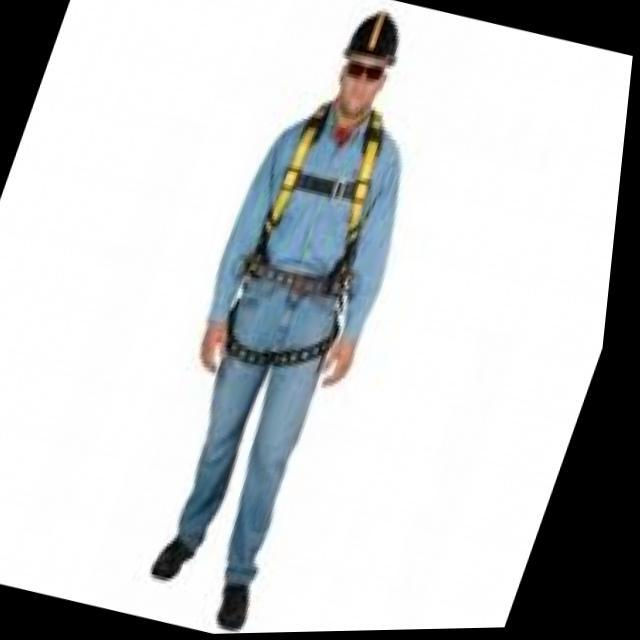belt: (216, 89, 422, 384)
